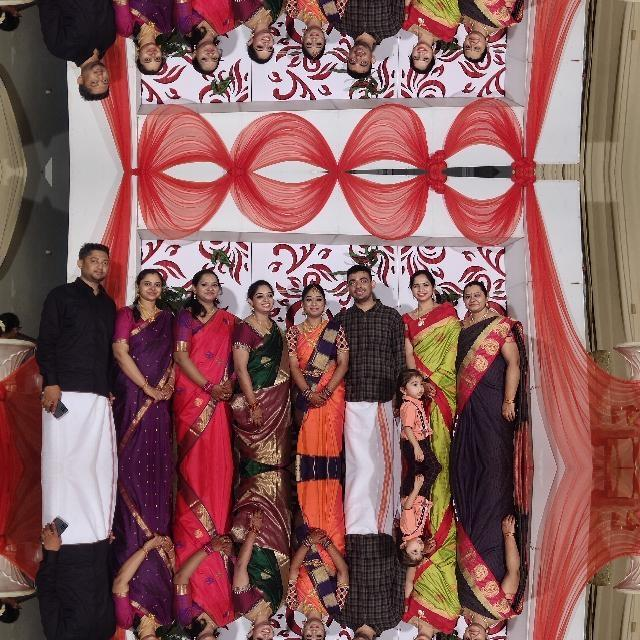person: (31, 230, 113, 460), (31, 475, 113, 640), (336, 256, 400, 466), (115, 247, 173, 468), (173, 258, 230, 468), (336, 470, 400, 640), (230, 268, 284, 467), (115, 467, 173, 640), (173, 468, 230, 640), (286, 268, 334, 468), (229, 469, 284, 640), (31, 0, 113, 112), (285, 468, 334, 640), (455, 266, 521, 378), (336, 0, 400, 86), (115, 0, 173, 94), (455, 558, 521, 640), (403, 256, 453, 360), (455, 0, 521, 76), (173, 0, 230, 84), (403, 0, 453, 85), (229, 0, 284, 74), (285, 0, 334, 74), (403, 576, 453, 640)
